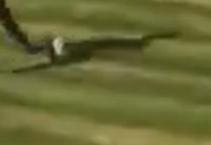ball: (47, 33, 78, 67)
